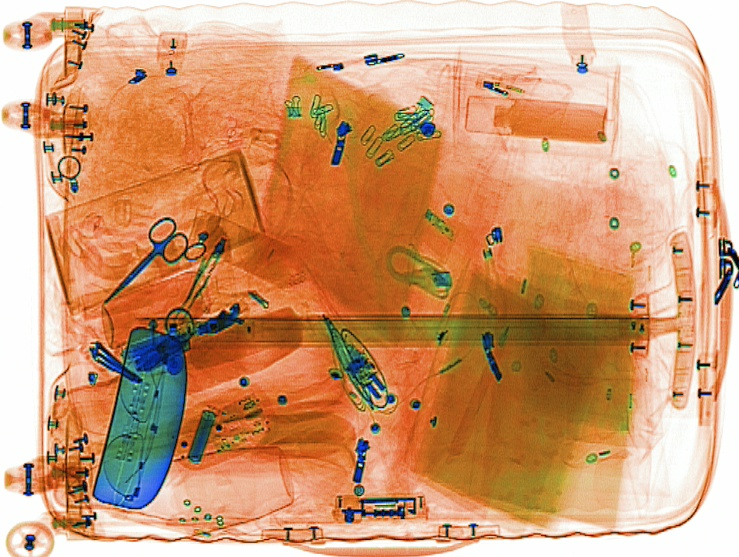pressure: (92, 264, 226, 350)
scissors: (99, 215, 189, 309)
